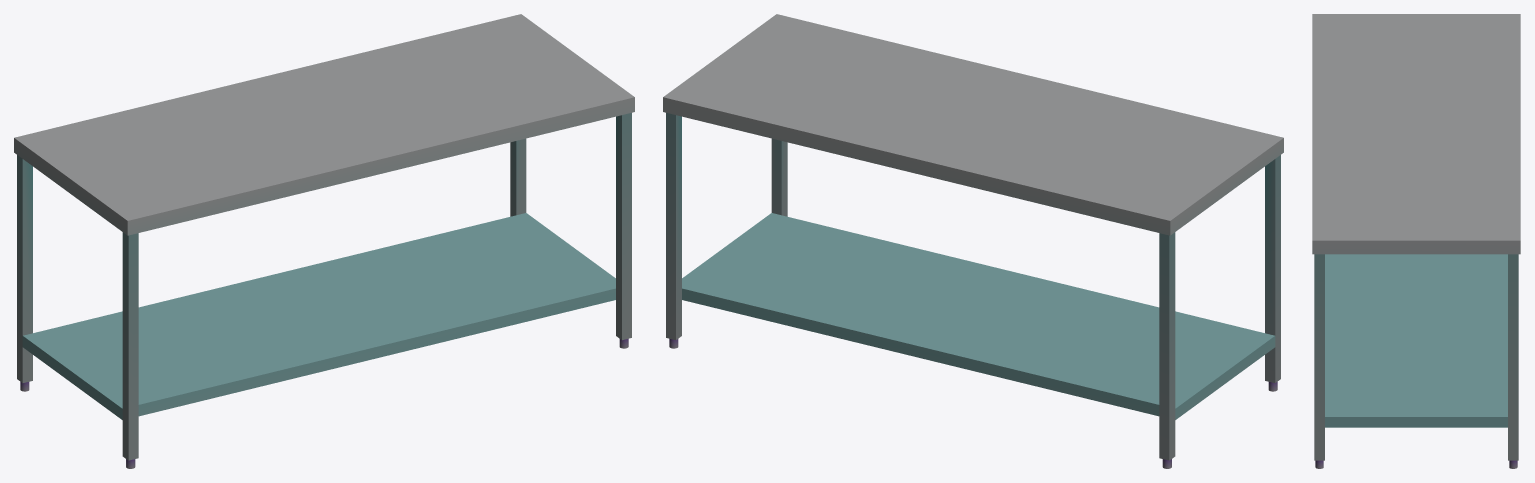
Rendered from simready-table_metal_stainless_a03.glb.
3 renders of one model, left to right at view 1: azimuth 30°, elevation 25°; view 2: azimuth 150°, elevation 25°; view 3: azimuth 270°, elevation 25°, orthographic. The views are drawn at different scales.
Visible parts, largest first — view 1: top, shelf, post.001, post, post.003, post.002; view 2: top, shelf, post.003, post.002, post.001, post; view 3: top, shelf, post, post.002.
Part boxes in pixels (x1=…): top: x1=14, y1=14, x2=634, y2=235; shelf: x1=22, y1=213, x2=615, y2=419; post.001: x1=122, y1=232, x2=138, y2=468; post: x1=616, y1=113, x2=631, y2=348; post.003: x1=17, y1=155, x2=32, y2=391; post.002: x1=510, y1=138, x2=526, y2=216; top: x1=663, y1=14, x2=1283, y2=235; shelf: x1=682, y1=213, x2=1275, y2=419; post.003: x1=1159, y1=232, x2=1175, y2=468; post.002: x1=666, y1=113, x2=681, y2=348; post.001: x1=1265, y1=155, x2=1280, y2=391; post: x1=771, y1=138, x2=787, y2=216; top: x1=1312, y1=14, x2=1520, y2=254; shelf: x1=1325, y1=254, x2=1507, y2=427; post: x1=1314, y1=254, x2=1324, y2=468; post.002: x1=1508, y1=254, x2=1518, y2=468.
Bounding box in the file's own units: 1.8 × 0.85 × 0.6988.
